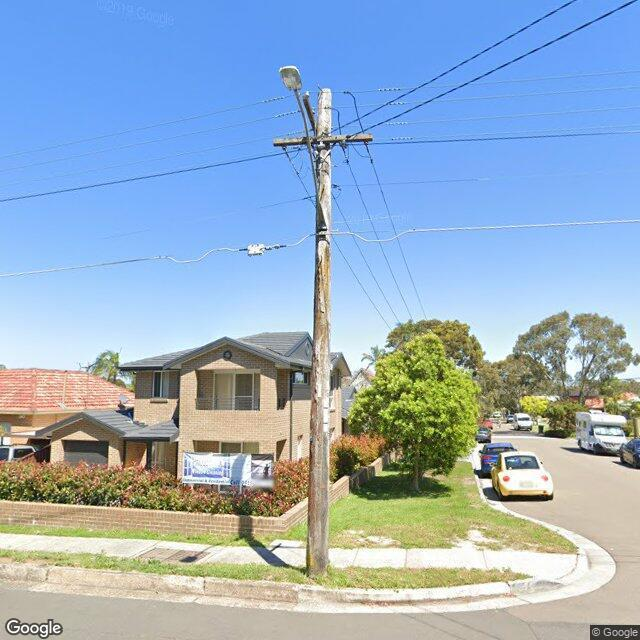crossarm: (274, 134, 372, 149), (303, 95, 318, 135)
streetlight: (278, 66, 322, 212)
timber-pole: (303, 84, 329, 581)
